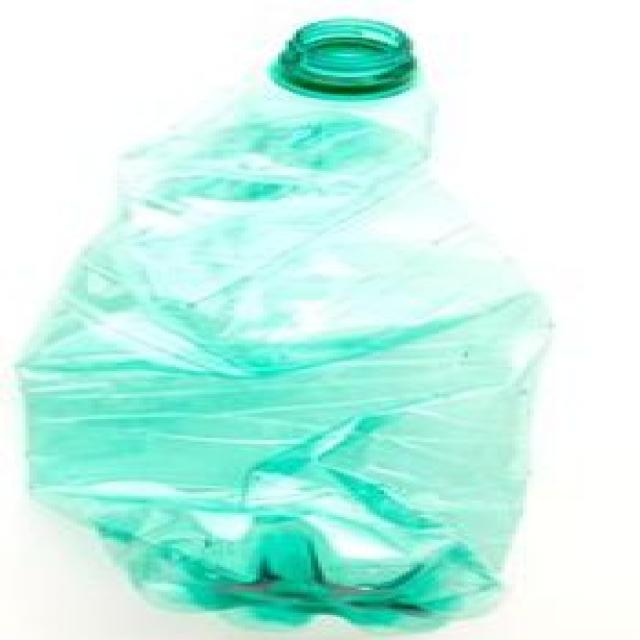general: (11, 14, 552, 634)
